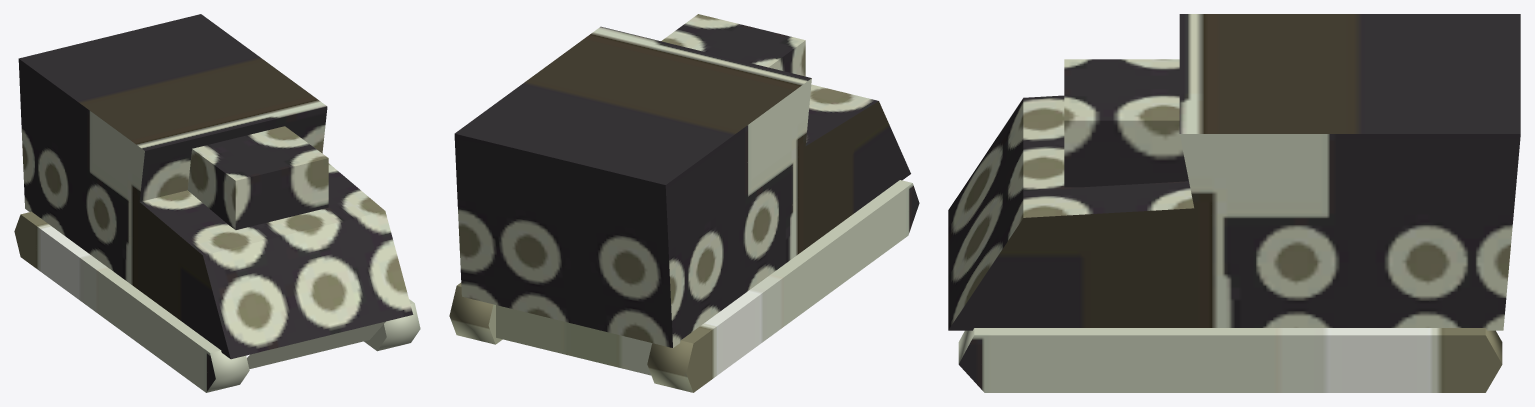
Rendered from Carrier_CMD.DAE.
The picture shows the model from 3 angles, left to right: view 1: azimuth 30°, elevation 25°; view 2: azimuth 150°, elevation 25°; view 3: azimuth 270°, elevation 25°; orthographic projection. The views are drawn at different scales.
Parts seen in each view (by area): view 1: _1111_Carrier_CMD; view 2: _1111_Carrier_CMD; view 3: _1111_Carrier_CMD.
Boxes of the visible parts, left/top/right/bottom form: _1111_Carrier_CMD: left=14, top=14, right=420, bottom=392; _1111_Carrier_CMD: left=449, top=14, right=919, bottom=392; _1111_Carrier_CMD: left=948, top=14, right=1520, bottom=392.
Bounding box in the file's own units: 109 × 94.42 × 195.
Materials: 1 (1 with a texture image).
